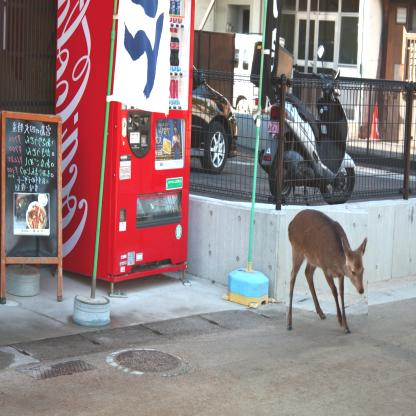Deer: (286, 209, 368, 336)
